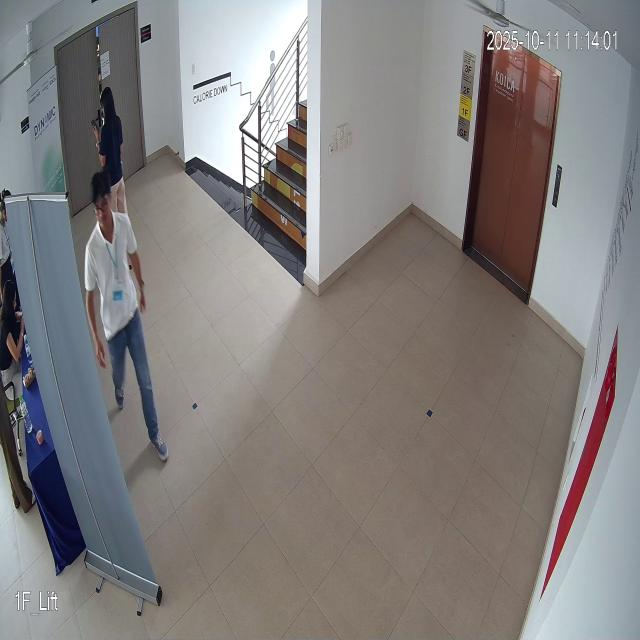face: (85, 170, 119, 233)
